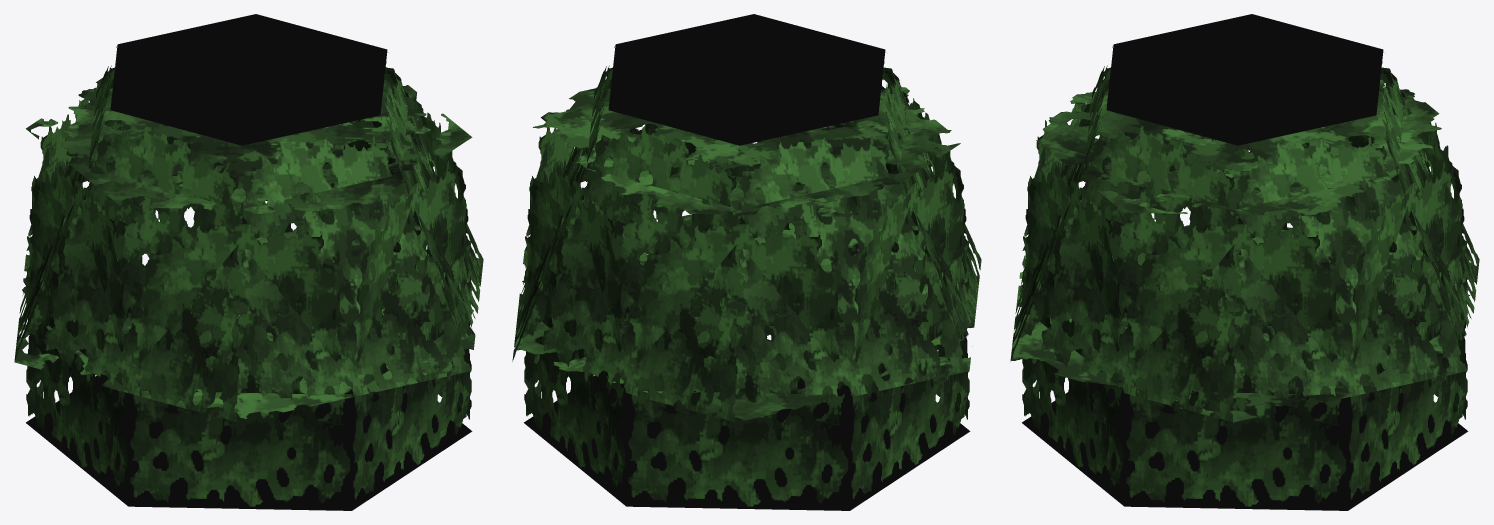
File: bush3.obj
3 views of the same model, side by side, from view 1: azimuth 30°, elevation 25°; view 2: azimuth 150°, elevation 25°; view 3: azimuth 270°, elevation 25° (orthographic).
Visible parts, largest first — view 1: Object.1, Object.2; view 2: Object.1, Object.2; view 3: Object.1, Object.2.
Part boxes in pixels (left/top/right/bottom): Object.1: left=26, top=67, right=472, bottom=510; Object.2: left=14, top=14, right=483, bottom=422; Object.1: left=524, top=83, right=970, bottom=510; Object.2: left=512, top=14, right=981, bottom=422; Object.1: left=1022, top=79, right=1468, bottom=510; Object.2: left=1010, top=14, right=1479, bottom=422.
Size of the model in its own units: 1 by 0.7257 by 0.8887.
